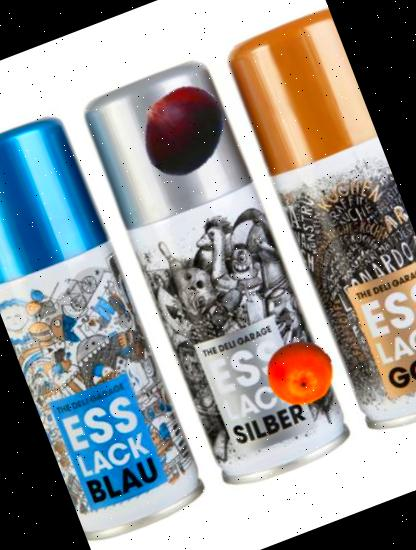Chestnut: (122, 69, 242, 190)
Grapefruit: (258, 330, 342, 415)
